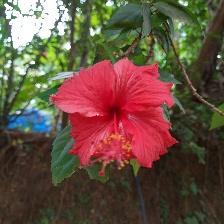hibiscus: (52, 55, 187, 175)
